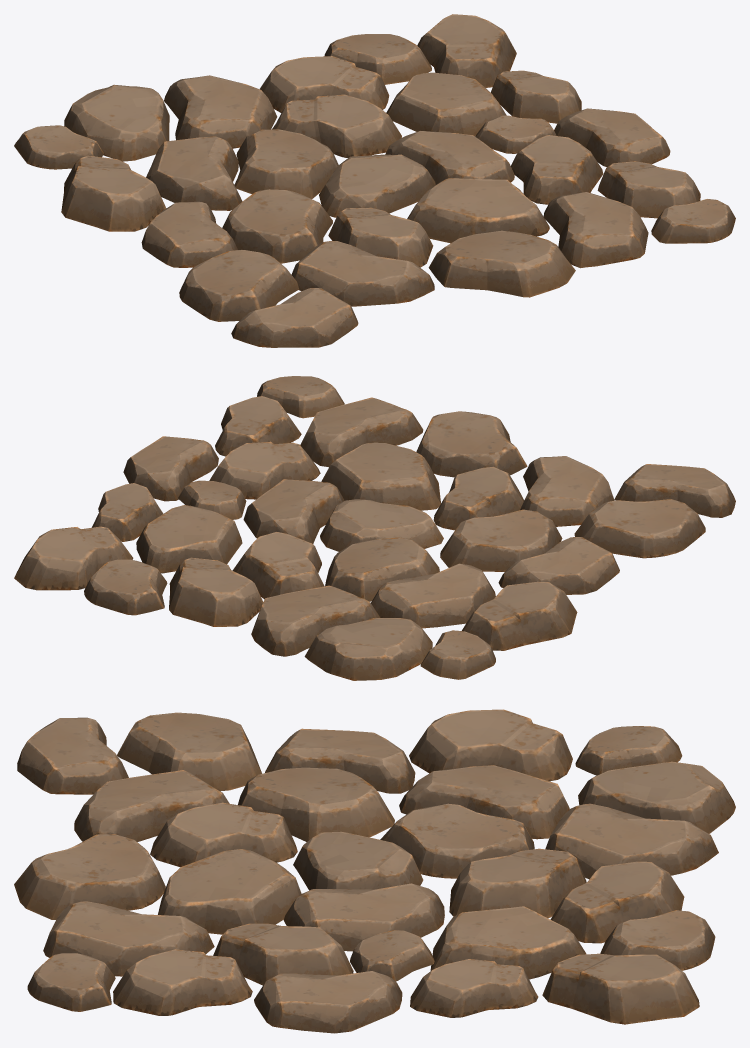
File: DesertRockPath_Round_Wide.obj
The picture shows the model from 3 angles, top to bottom: view 1: azimuth 30°, elevation 25°; view 2: azimuth 150°, elevation 25°; view 3: azimuth 270°, elevation 25°; orthographic projection. The views are drawn at different scales.
Visible parts, largest first — view 1: DesertRockPath_Round_Wide; view 2: DesertRockPath_Round_Wide; view 3: DesertRockPath_Round_Wide.
Part boxes in pixels (x1,y1,x2,y2): DesertRockPath_Round_Wide: (14,14,735,347); DesertRockPath_Round_Wide: (14,376,735,680); DesertRockPath_Round_Wide: (14,709,735,1033).
Bounding box in the file's own units: 2.11 × 0.1128 × 2.13.
Materials: 1 (1 with a texture image).
